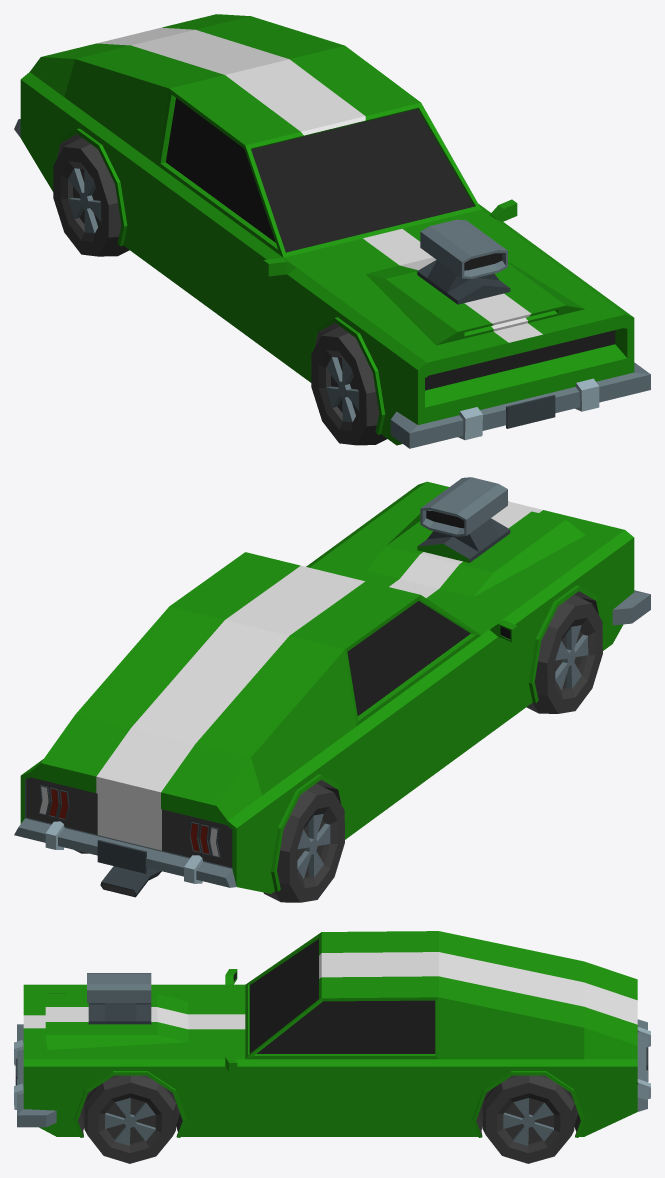
Rendered from main_car.glb.
3 renders of one model, top to bottom at view 1: azimuth 30°, elevation 25°; view 2: azimuth 150°, elevation 25°; view 3: azimuth 270°, elevation 25°, orthographic. The views are drawn at different scales.
Visible parts, largest first — view 1: MuscleCarV1; view 2: MuscleCarV1; view 3: MuscleCarV1.
Boxes of the visible parts, bbox=[...] form: MuscleCarV1: bbox=[14, 14, 650, 448]; MuscleCarV1: bbox=[14, 477, 650, 902]; MuscleCarV1: bbox=[14, 931, 650, 1163].
Bounding box in the file's own units: 0.6381 × 0.5022 × 1.83.
Materials: 1 (1 with a texture image).
